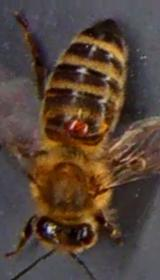varroa_mite: (66, 111, 92, 144)
